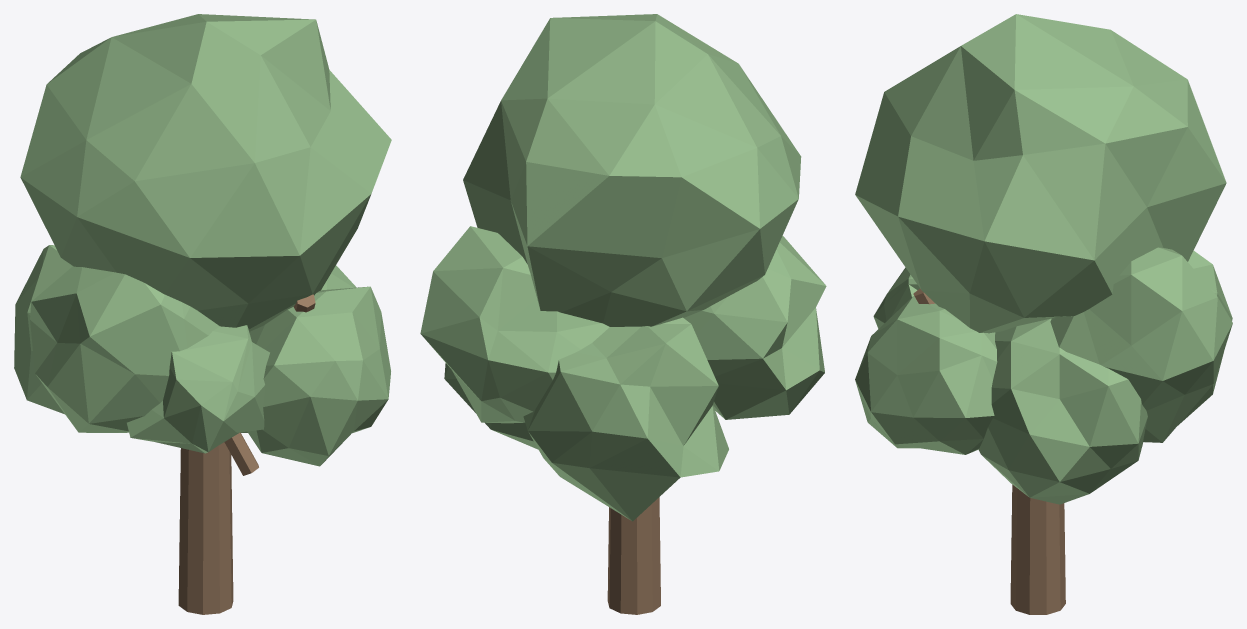
File: sculpted_tree_a.glb
3 views of the same model, side by side, from view 1: azimuth 30°, elevation 25°; view 2: azimuth 150°, elevation 25°; view 3: azimuth 270°, elevation 25° (orthographic). The views are drawn at different scales.
Parts seen in each view (by area): view 1: SculptedTree_1; view 2: SculptedTree_1; view 3: SculptedTree_1.
Boxes of the visible parts, <box> form: SculptedTree_1: <box>14,14,391,614</box>; SculptedTree_1: <box>420,14,826,614</box>; SculptedTree_1: <box>855,14,1232,614</box>.
Size of the model in its own units: 2.25 by 3.73 by 2.18.
